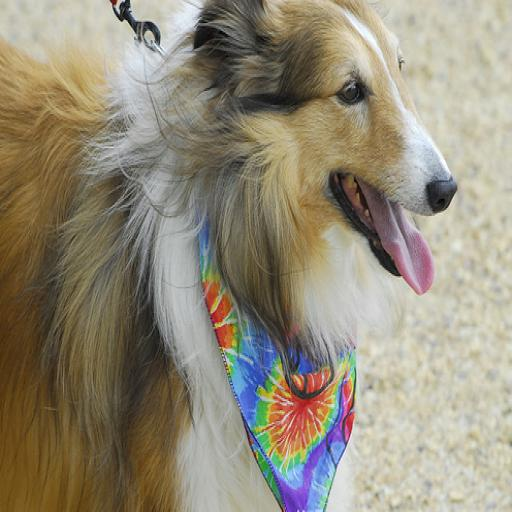dog_face: (197, 1, 444, 295)
